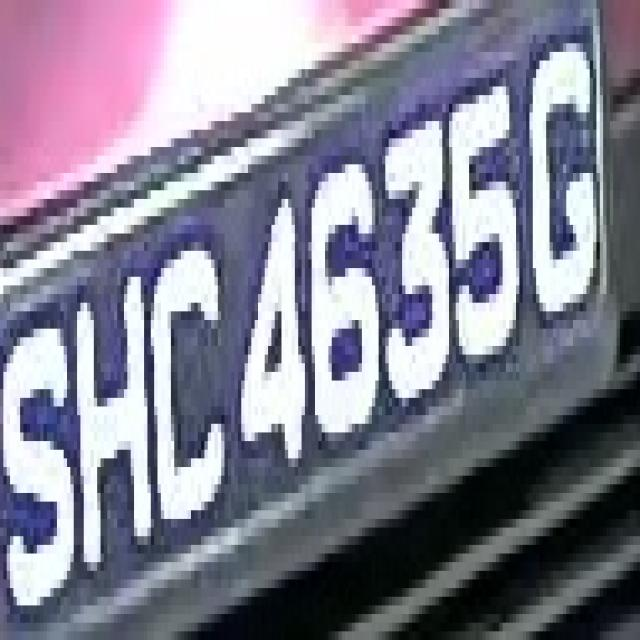3: (378, 86, 456, 424)
4: (231, 165, 312, 484)
5: (446, 61, 522, 389)
6: (305, 138, 385, 467)
C: (148, 207, 225, 554)
G: (526, 52, 603, 354)
H: (74, 251, 154, 562)
S: (3, 294, 74, 597)
